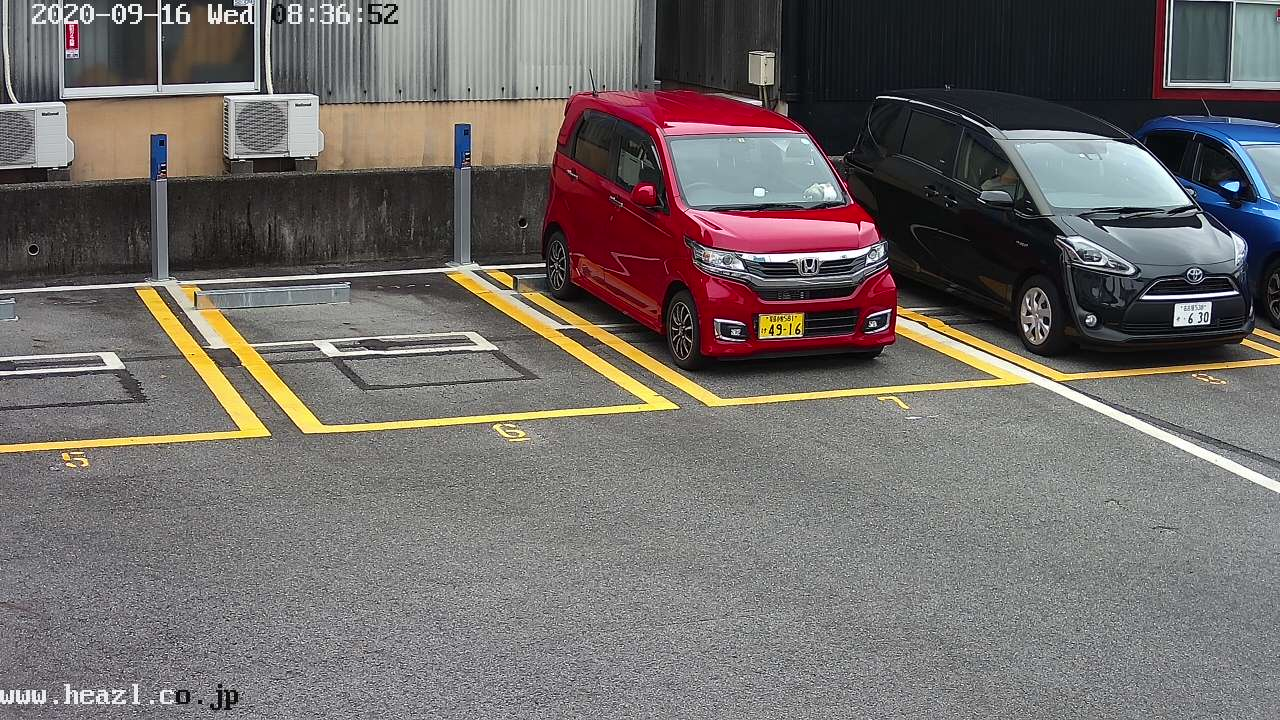number_plate: (759, 311, 804, 337), (1174, 300, 1212, 325)
